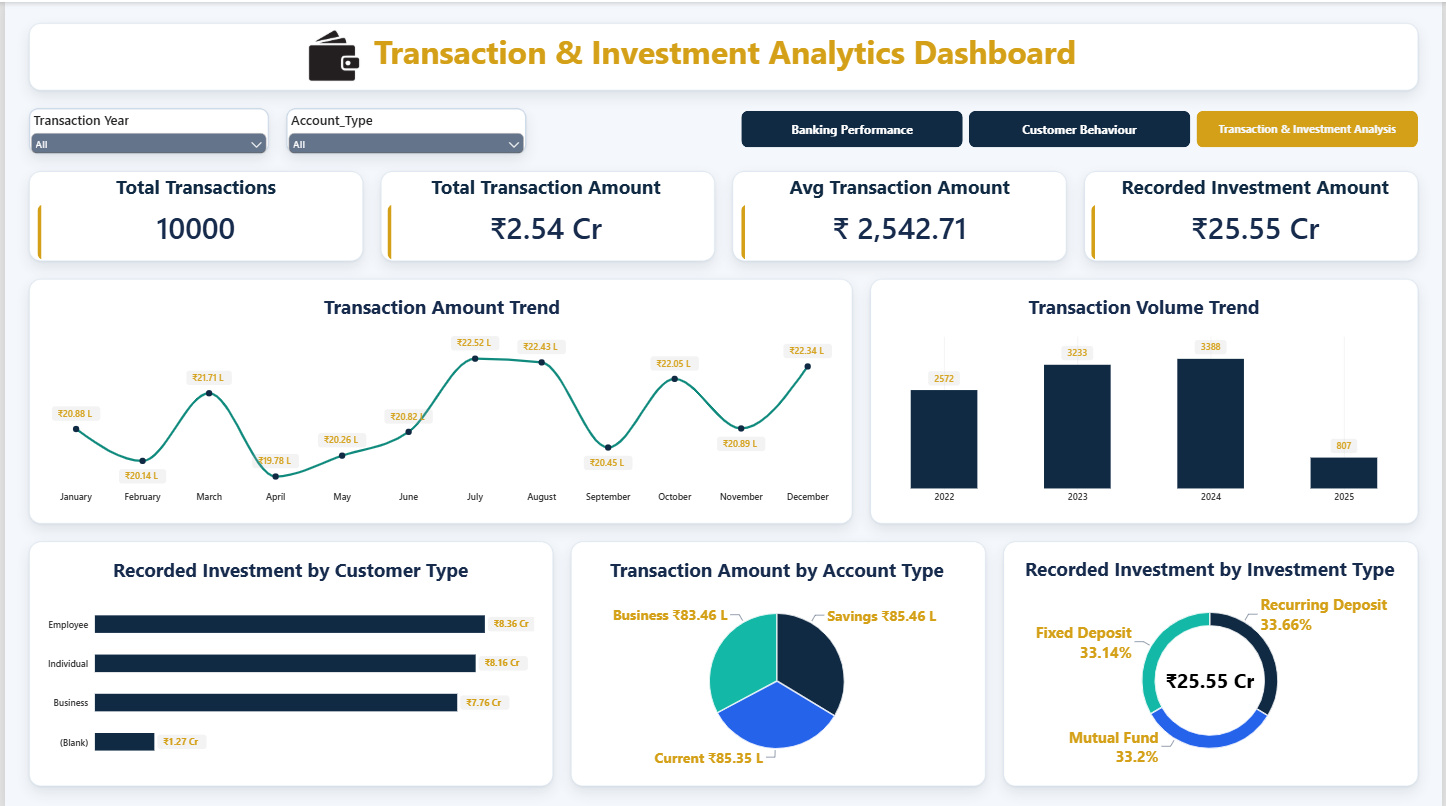

This screenshot's page, from the dashboard's own definition file:
{"tool":"powerbi","page":{"name":"Transaction & Investment Analysis","canvas":[1920,1080],"ordinal":2},"visuals":[{"type":"textbox","box":[484.1,36.8,955.2,81],"z":0},{"type":"slicer","fields":{"Values":["Transactions_Clean.Transaction Year"]},"box":[29.4,145.4,323.9,57.1],"z":1000},{"type":"slicer","fields":{"Values":["Transactions_Clean.Account_Type"]},"box":[373.6,145.4,323.9,57.1],"z":2000},{"type":"cardVisual","title":"Total Transactions","fields":{"Data":["Measure.Total Transactions"]},"box":[44.2,228.2,423.3,116],"z":3000},{"type":"cardVisual","title":"Total Transaction Amount","fields":{"Data":["Financial_Display.Total Transaction Amount (Cr)"]},"box":[511.7,228.2,423.3,116],"z":3001},{"type":"cardVisual","title":"Avg Transaction Amount","fields":{"Data":["Measure.Average Transaction Amount"]},"box":[982.8,228.2,423.3,116],"z":3002},{"type":"cardVisual","title":"Recorded Investment Amount","fields":{"Data":["Financial_Display.Recorded Investment Amount (Cr)"]},"box":[1450.3,228.2,438,116],"z":3003},{"type":"lineChart","title":"Transaction Amount Trend","fields":{"Category":["Transactions_Clean.Transaction_Date.Variation.Date Hierarchy.Year","Transactions_Clean.Transaction_Date.Variation.Date Hierarchy.Quarter","Transactions_Clean.Transaction_Date.Variation.Date Hierarchy.Month"],"Y":["Transactions_Clean.Total Transaction Amount (Lakhs)"]},"box":[44.2,375.5,1080.4,314.7],"z":3004},{"type":"clusteredColumnChart","title":"Transaction Volume Trend","fields":{"Category":["Transactions_Clean.Transaction_Date.Variation.Date Hierarchy.Year","Transactions_Clean.Transaction_Date.Variation.Date Hierarchy.Quarter","Transactions_Clean.Transaction_Date.Variation.Date Hierarchy.Month"],"Y":["Measure.Total Transactions"]},"box":[1166.9,375.5,708.6,314.7],"z":3005},{"type":"pieChart","title":"Transaction Amount by Account Type","fields":{"Category":["Transactions_Clean.Account_Type"],"Y":["Transactions_Clean.Total Transaction Amount (Lakhs)"]},"box":[762,727,539.3,312.9],"z":3006},{"type":"donutChart","title":"Recorded Investment by Investment Type","fields":{"Category":["Transactions_Clean.Investment_Type"],"Y":["Financial_Display.Recorded Investment Amount (Cr)"]},"box":[1341.7,725.2,533.7,314.7],"z":3007},{"type":"clusteredBarChart","title":"Recorded Investment by Customer Type","fields":{"Category":["Customer_Clean.Customer_Type"],"Y":["Financial_Display.Recorded Investment Amount (Cr)"]},"box":[40.5,727,682.8,312.9],"z":3008},{"type":"pageNavigator","box":[982.8,145.4,905.5,49.7],"z":3009},{"type":"image","box":[382.8,31.3,114.1,81],"z":3011}]}

Visuals, with their boxes in screenshot pixels (x1, y1, x2, y2), scaled from the page's 1920x1080 canvas onto the 1446x806 screenshot:
textbox: rect(365, 27, 1084, 88)
slicer - Transactions_Clean.Transaction Year: rect(22, 109, 266, 151)
slicer - Transactions_Clean.Account_Type: rect(281, 109, 525, 151)
"Total Transactions" cardVisual: rect(33, 170, 352, 257)
"Total Transaction Amount" cardVisual: rect(385, 170, 704, 257)
"Avg Transaction Amount" cardVisual: rect(740, 170, 1059, 257)
"Recorded Investment Amount" cardVisual: rect(1092, 170, 1422, 257)
"Transaction Amount Trend" lineChart: rect(33, 280, 847, 515)
"Transaction Volume Trend" clusteredColumnChart: rect(879, 280, 1412, 515)
"Transaction Amount by Account Type" pieChart: rect(574, 543, 980, 776)
"Recorded Investment by Investment Type" donutChart: rect(1010, 541, 1412, 776)
"Recorded Investment by Customer Type" clusteredBarChart: rect(31, 543, 545, 776)
pageNavigator: rect(740, 109, 1422, 146)
image: rect(288, 23, 374, 84)
